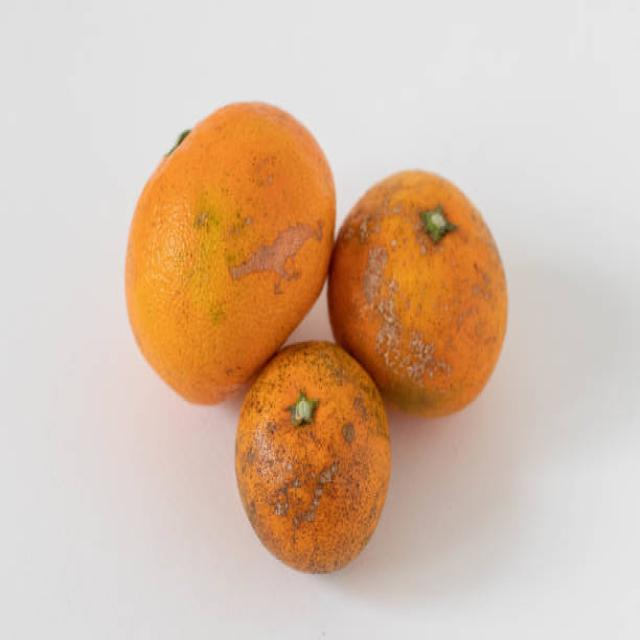overripe: (126, 98, 338, 411), (336, 160, 511, 422), (236, 338, 393, 579)
